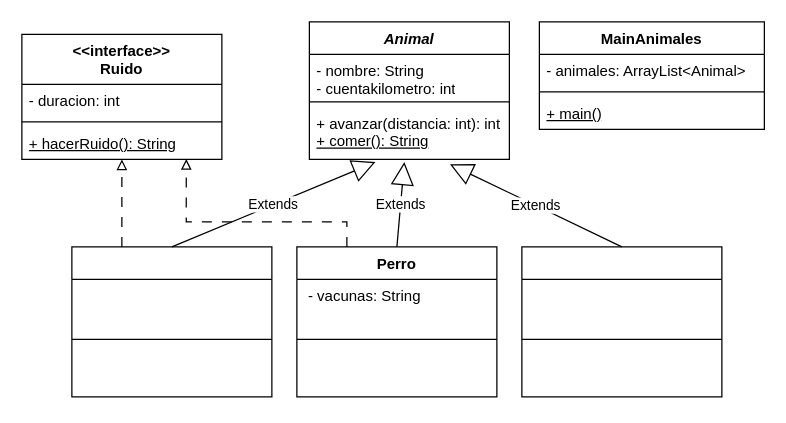
This 786x423 diagram has some shape labels left out. Each missing label, with the centre of its shape:
"Gato" belongs at pixel 171 321.
"Gusano" belongs at pixel 621 321.
